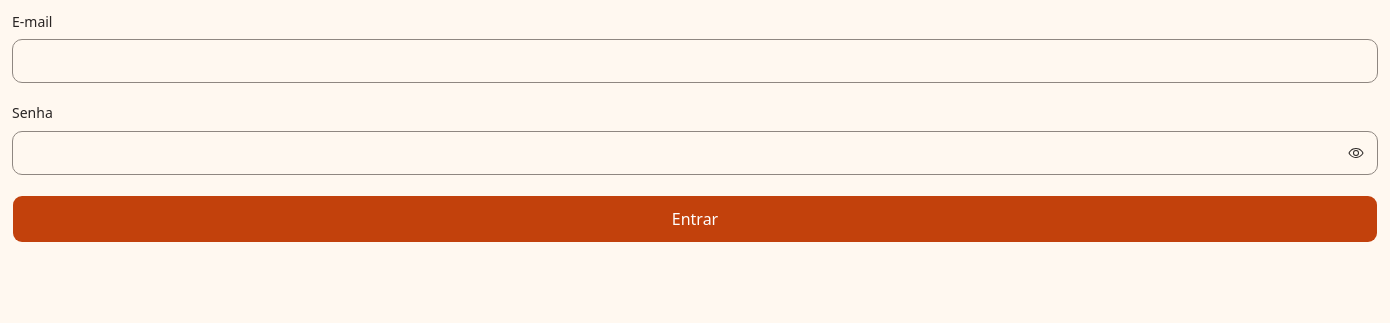
Test: SignInForm › reports when the server cannot be reached
Type " ana@example.com " into the field labelled "E-mail".
click(695, 61); type(" ana@example.com ")  # box x1=12 y1=39 x2=1378 y2=83
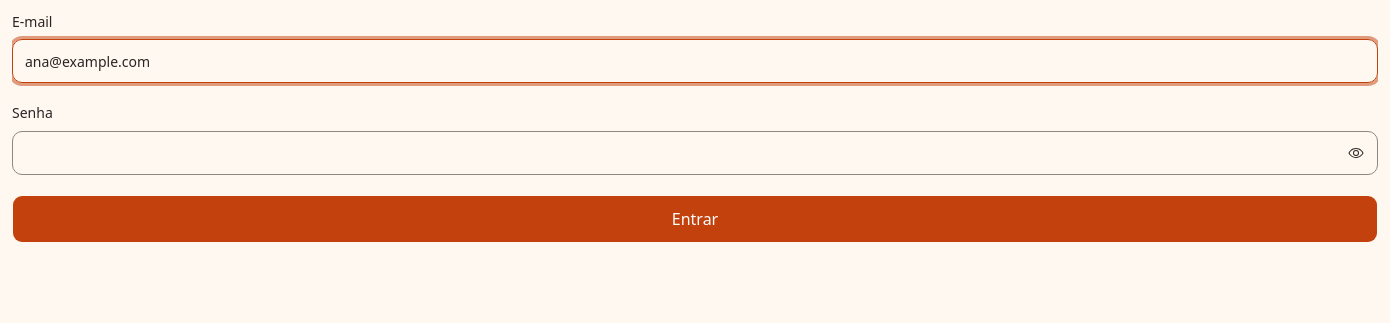
Type "secret" into the password field labelled "Senha".
click(695, 152); type("secret")  # box x1=12 y1=130 x2=1378 y2=174
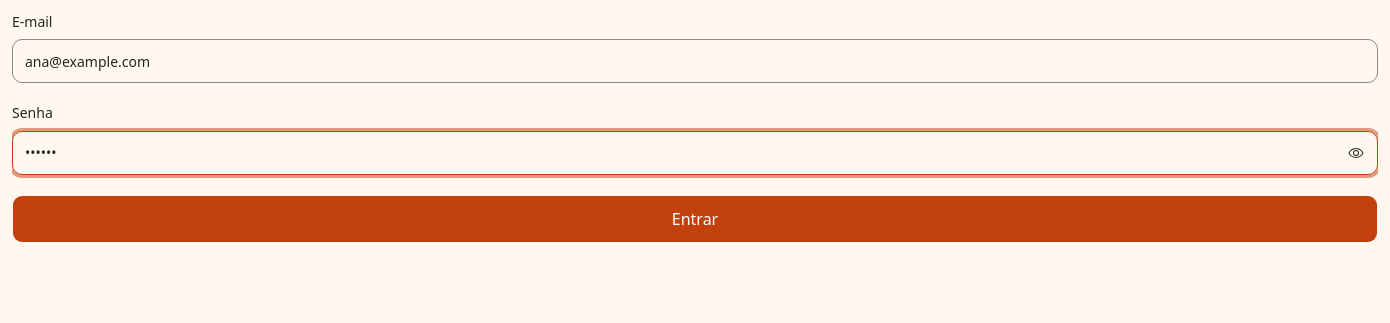
Click the button "Entrar".
click(695, 218)  # box x1=12 y1=194 x2=1378 y2=242
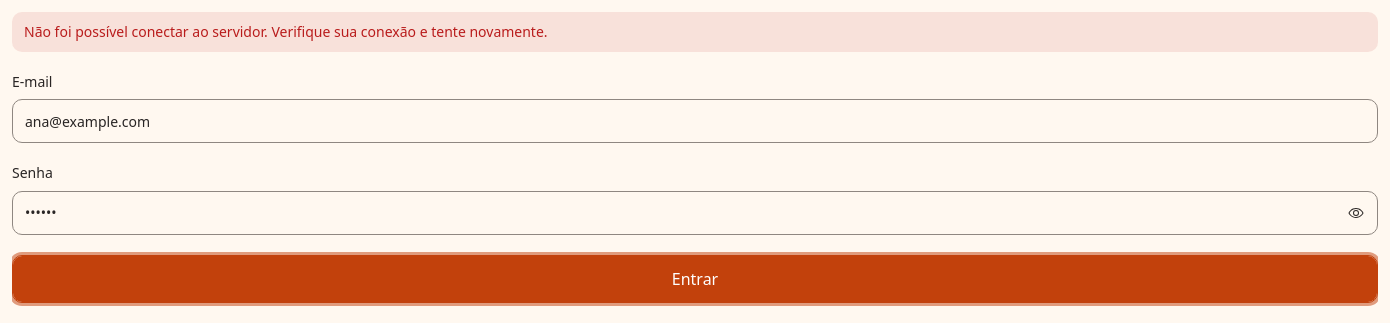
Result: the message shows "Não foi possível conectar" at x1=24 y1=22 x2=548 y2=41
